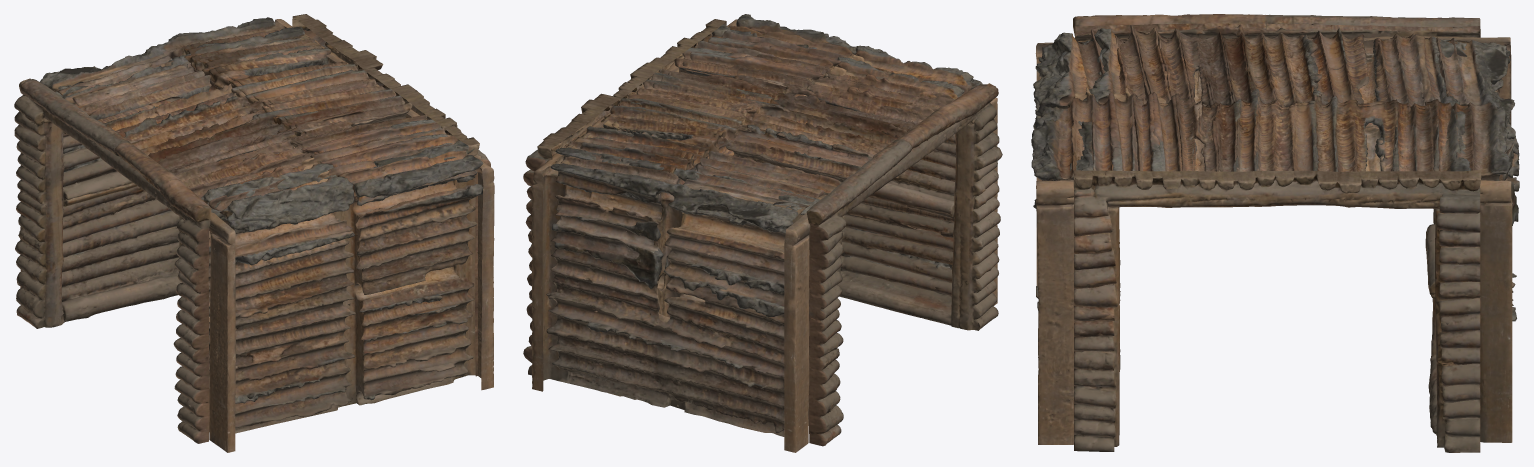
Rendered from MineAlt_Gang.a23d616ce7.glb.
3 views of the same model, side by side, from view 1: azimuth 30°, elevation 25°; view 2: azimuth 150°, elevation 25°; view 3: azimuth 270°, elevation 25° (orthographic). The views are drawn at different scales.
Visible parts, largest first — view 1: gang_b, gang_a; view 2: gang_b, gang_a; view 3: gang_a, gang_b.
Boxes of the visible parts, left/top/right/bottom form: gang_b: left=19, top=17, right=494, bottom=452; gang_a: left=14, top=14, right=493, bottom=443; gang_b: left=532, top=14, right=997, bottom=452; gang_a: left=523, top=19, right=1002, bottom=446; gang_a: left=1069, top=14, right=1481, bottom=452; gang_b: left=1031, top=29, right=1519, bottom=444.
Size of the model in its own units: 3.2 by 2.37 by 3.8.
Materials: 2 (2 with a texture image).
